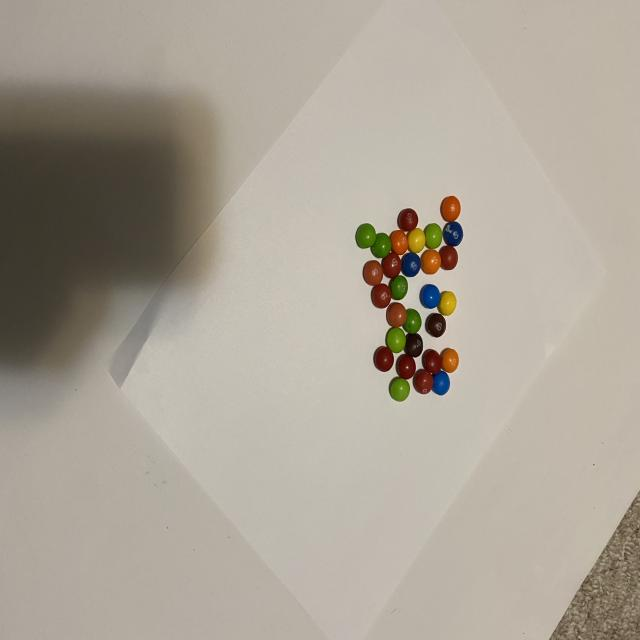smartie: (382, 251, 402, 278), (356, 223, 377, 248), (421, 248, 442, 273), (398, 207, 419, 231), (372, 232, 392, 257), (387, 302, 407, 327), (414, 369, 434, 394), (444, 221, 464, 246), (403, 308, 422, 334), (387, 327, 406, 353), (375, 346, 394, 372), (440, 244, 459, 270), (408, 226, 426, 253), (390, 378, 410, 402), (427, 313, 447, 337), (364, 260, 383, 285), (373, 283, 392, 308), (405, 332, 424, 357), (443, 195, 461, 221), (433, 370, 451, 396), (438, 291, 457, 315), (402, 252, 421, 276), (422, 284, 441, 308), (425, 223, 443, 248), (398, 355, 416, 380), (425, 349, 443, 374), (391, 275, 408, 300), (391, 229, 408, 254), (443, 348, 460, 373)
